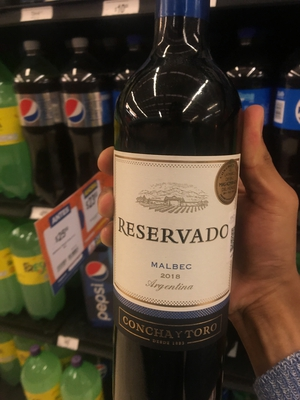reservado malbec: (112, 4, 237, 391)
